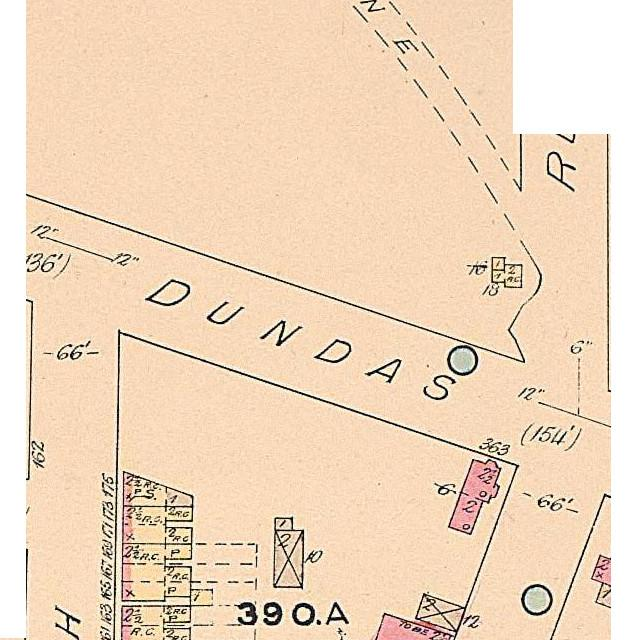building-footprints: (121, 544, 191, 601), (449, 460, 501, 535), (122, 507, 192, 544), (123, 471, 192, 506), (121, 606, 190, 640), (375, 614, 451, 640), (415, 594, 465, 632), (274, 530, 302, 588), (491, 265, 521, 288), (591, 555, 611, 586), (595, 583, 610, 608), (190, 590, 212, 606), (274, 518, 292, 531), (492, 258, 504, 270)
